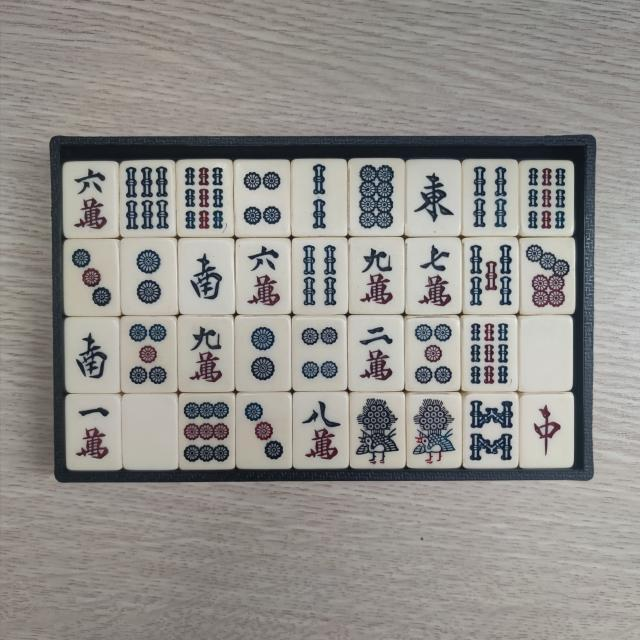hdr: (526, 398, 568, 466)
hdw: (526, 321, 570, 387), (128, 400, 171, 464)
hwe: (409, 164, 456, 232)
hws: (184, 246, 230, 311), (72, 323, 116, 388)
sb1: (352, 396, 400, 466), (410, 398, 458, 466)
sb2: (297, 163, 343, 234)
sb4: (468, 162, 514, 232), (298, 242, 342, 310)
sb5: (469, 244, 516, 312)
sb6: (123, 166, 170, 233)
sb8: (468, 397, 516, 464)
sb9: (183, 165, 228, 233), (468, 320, 512, 388), (526, 165, 570, 232)
sc1: (70, 400, 114, 464)
sc2: (355, 321, 400, 387)
sc6: (68, 165, 112, 232), (243, 242, 287, 308)
sc7: (411, 241, 456, 308)
sc8: (300, 396, 346, 464)
sc9: (184, 320, 229, 388), (356, 244, 398, 310)
sd2: (242, 322, 287, 389), (127, 244, 171, 312)
sd3: (69, 245, 116, 312), (242, 396, 288, 464)
sd4: (238, 164, 286, 232), (298, 321, 342, 386)
sd5: (126, 322, 170, 390), (411, 321, 455, 386)
sd7: (524, 244, 571, 311)
sd8: (355, 163, 401, 232)
sd9: (184, 399, 233, 466)
